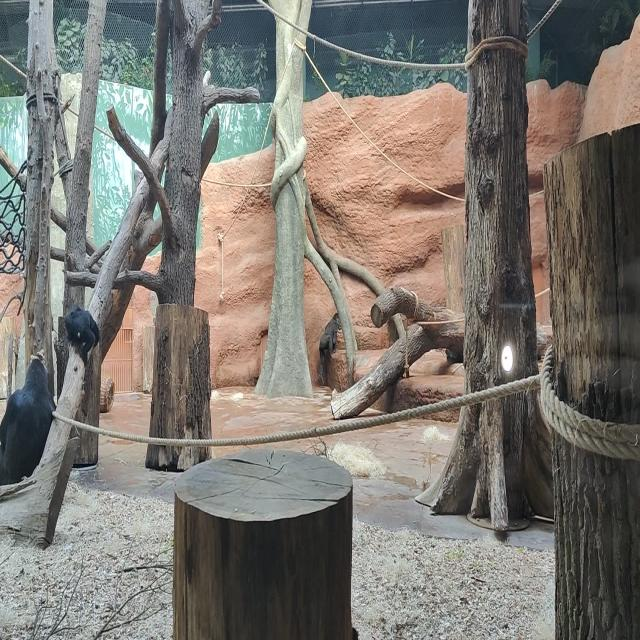monkey: (0, 358, 56, 485), (65, 304, 100, 368), (318, 312, 342, 384)
